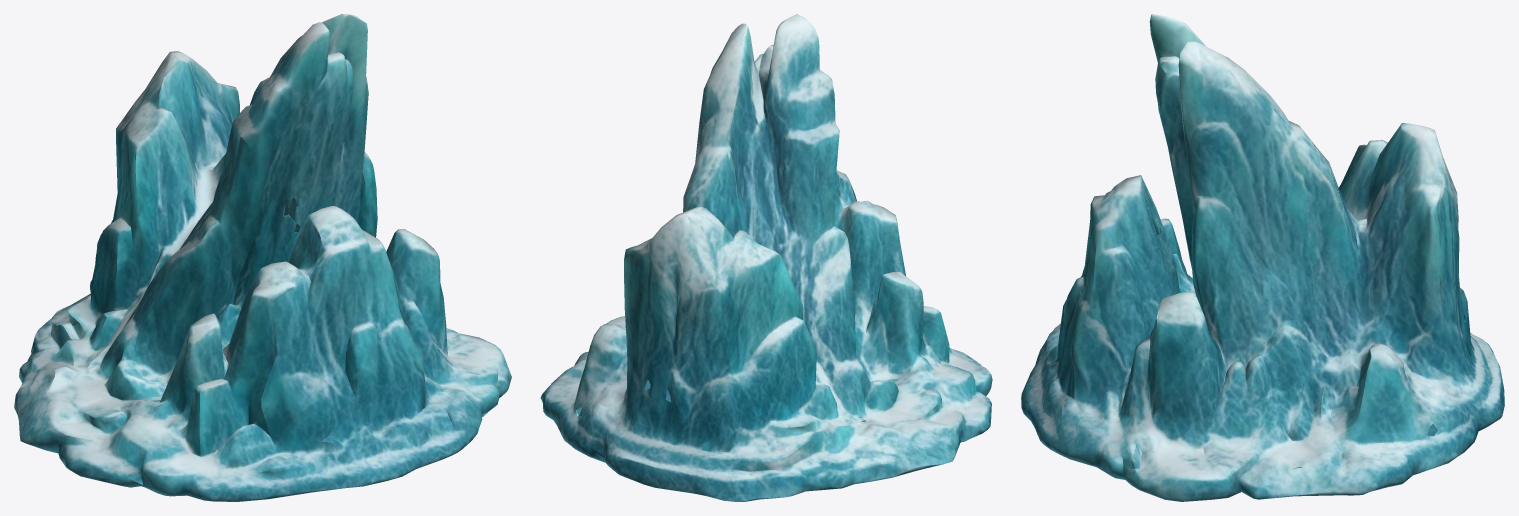
3 views of the same model, side by side, from view 1: azimuth 30°, elevation 25°; view 2: azimuth 150°, elevation 25°; view 3: azimuth 270°, elevation 25° (orthographic). The views are drawn at different scales.
Visible parts, largest first — view 1: glacier-spires; view 2: glacier-spires; view 3: glacier-spires.
Part boxes in pixels (x1,y1,x2,y2): glacier-spires: [14, 14, 511, 501]; glacier-spires: [540, 14, 992, 501]; glacier-spires: [1021, 14, 1504, 501].
Bounding box in the file's own units: 14.7 × 12.99 × 14.39.
1 material, 1 textured.
